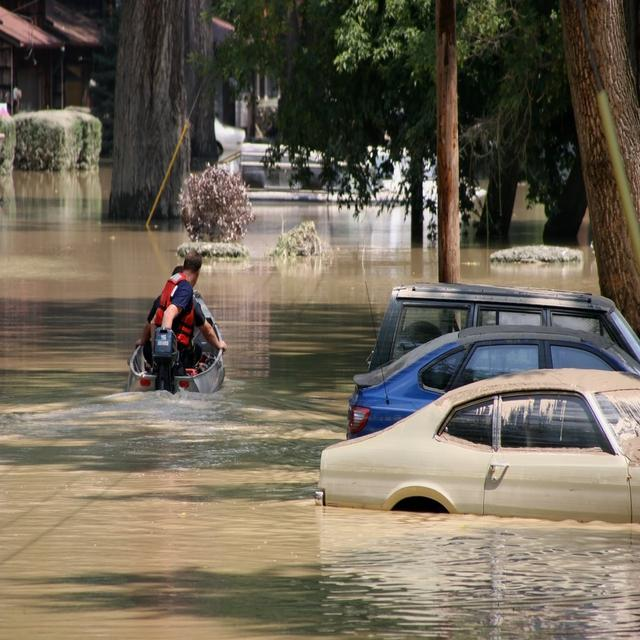Car-RiskLevel3: (318, 365, 640, 537), (347, 320, 640, 430), (368, 276, 640, 374)
Person-RiskLevel3: (138, 242, 219, 379)
